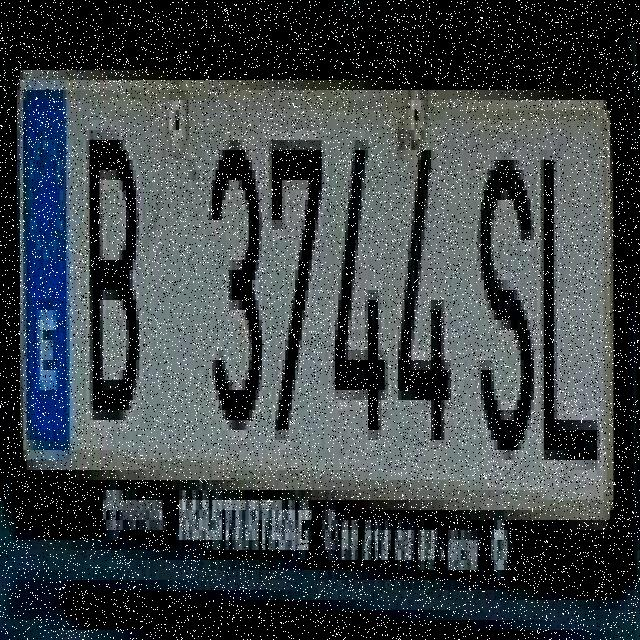licenseplate: (15, 34, 638, 606)
